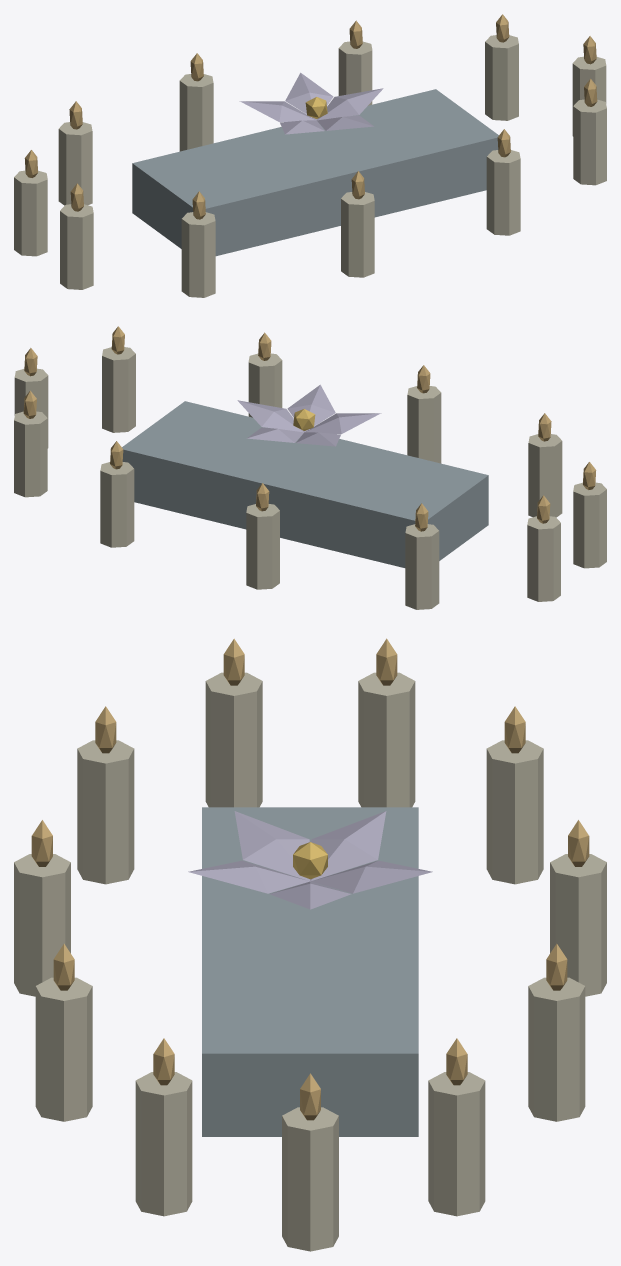
The model's file is map-exclusive-v3__grave_16.glb.
3 views of the same model, one above another, from view 1: azimuth 30°, elevation 25°; view 2: azimuth 150°, elevation 25°; view 3: azimuth 270°, elevation 25° (orthographic). The views are drawn at different scales.
Visible parts, largest first — view 1: grave_16; view 2: grave_16; view 3: grave_16.
Part boxes in pixels (x1,y1,x2,y2): grave_16: (14,14,606,297); grave_16: (14,326,606,609); grave_16: (14,638,606,1251).
Size of the model in its own units: 2.6 by 0.4646 by 1.42.
